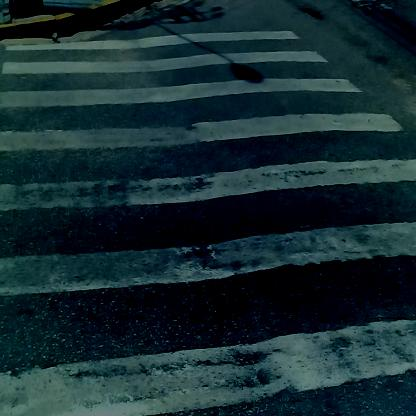crosswalk: (3, 39, 412, 404)
